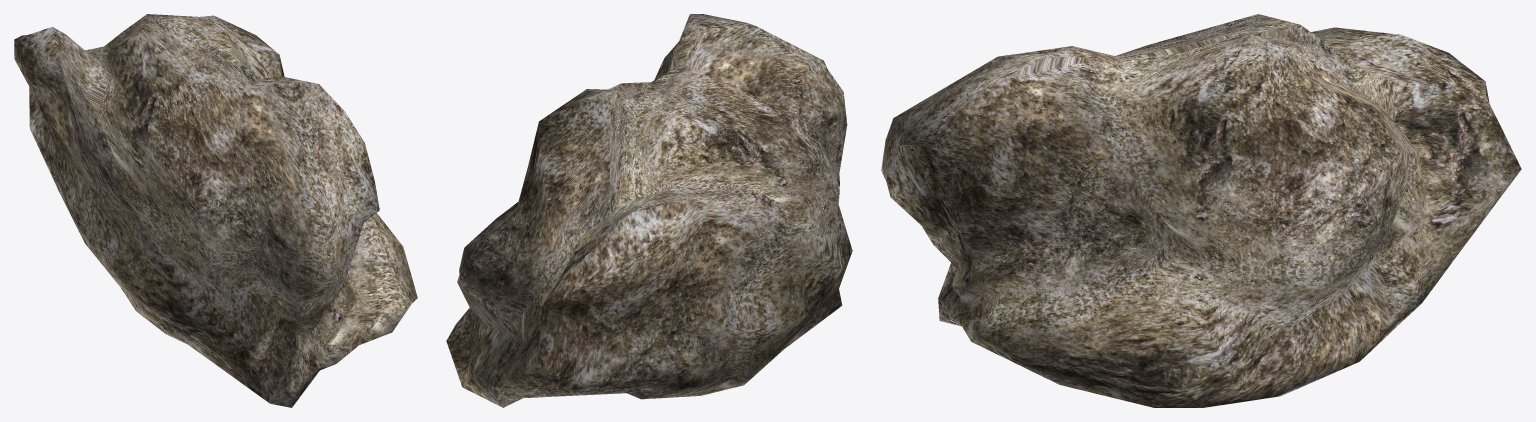
File: Asteroid_12_L2.FBX
The picture shows the model from 3 angles, left to right: view 1: azimuth 30°, elevation 25°; view 2: azimuth 150°, elevation 25°; view 3: azimuth 270°, elevation 25°; orthographic projection. The views are drawn at different scales.
Parts seen in each view (by area): view 1: Asteroid; view 2: Asteroid; view 3: Asteroid.
Boxes of the visible parts, <box> form: Asteroid: <box>14,14,417,407</box>; Asteroid: <box>446,14,852,407</box>; Asteroid: <box>881,14,1521,407</box>.
Bounding box in the file's own units: 1.79 × 1.77 × 3.3.
